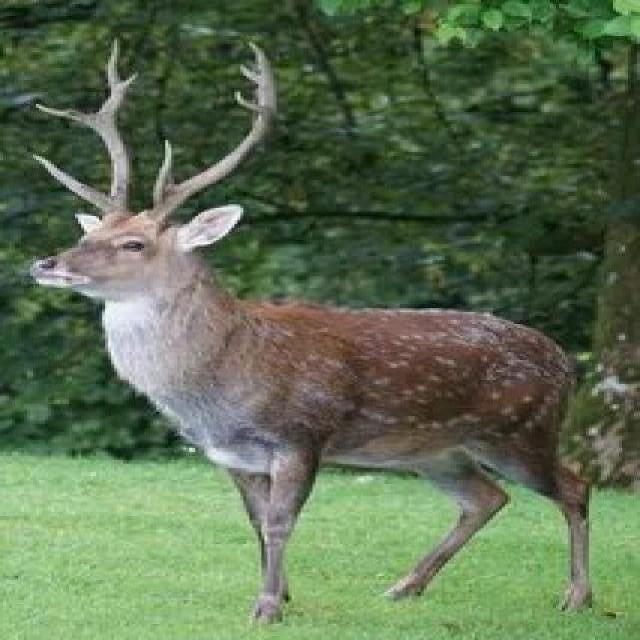deer: (4, 96, 604, 604)
